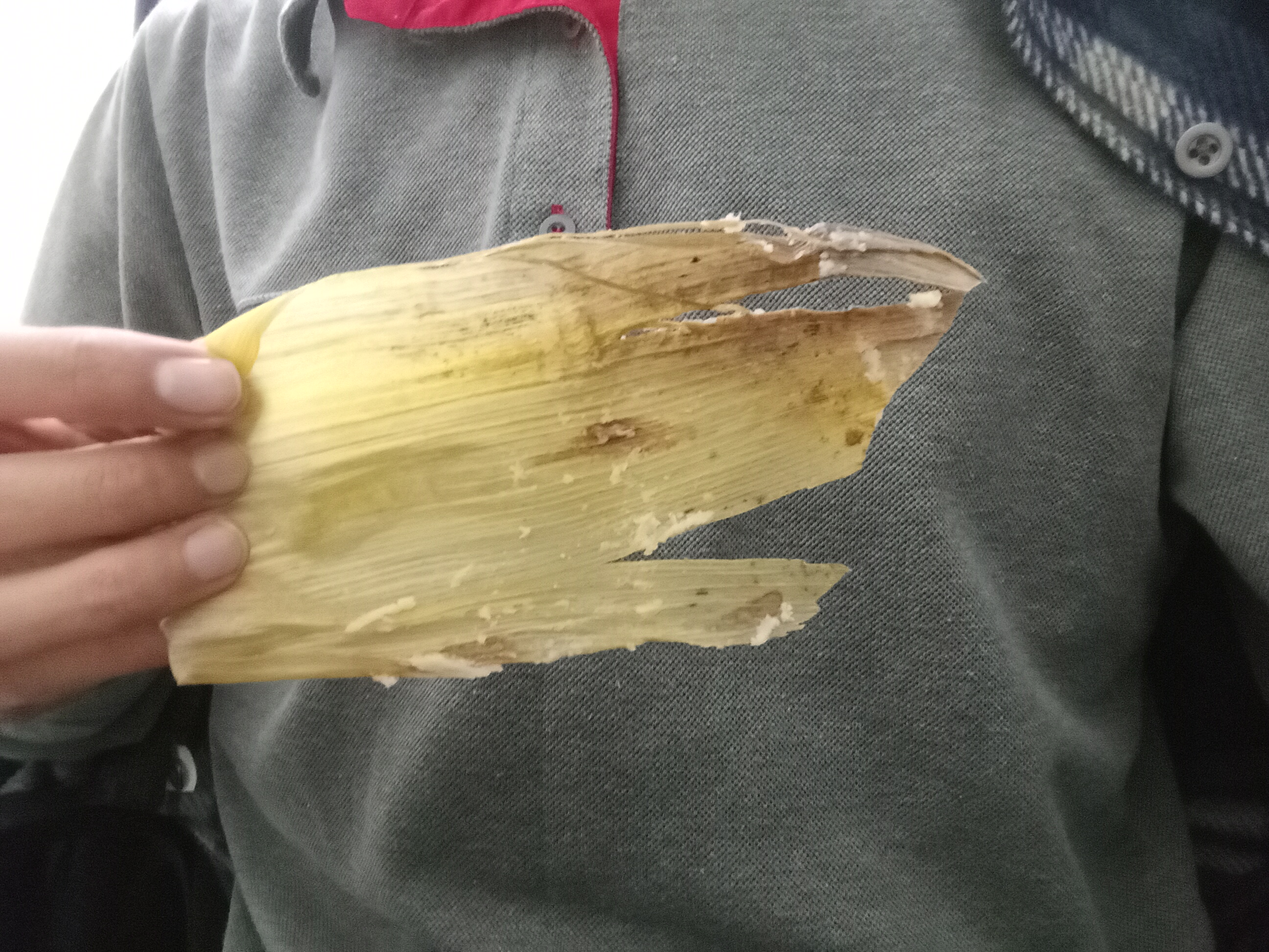Organico: (173, 216, 988, 688)
